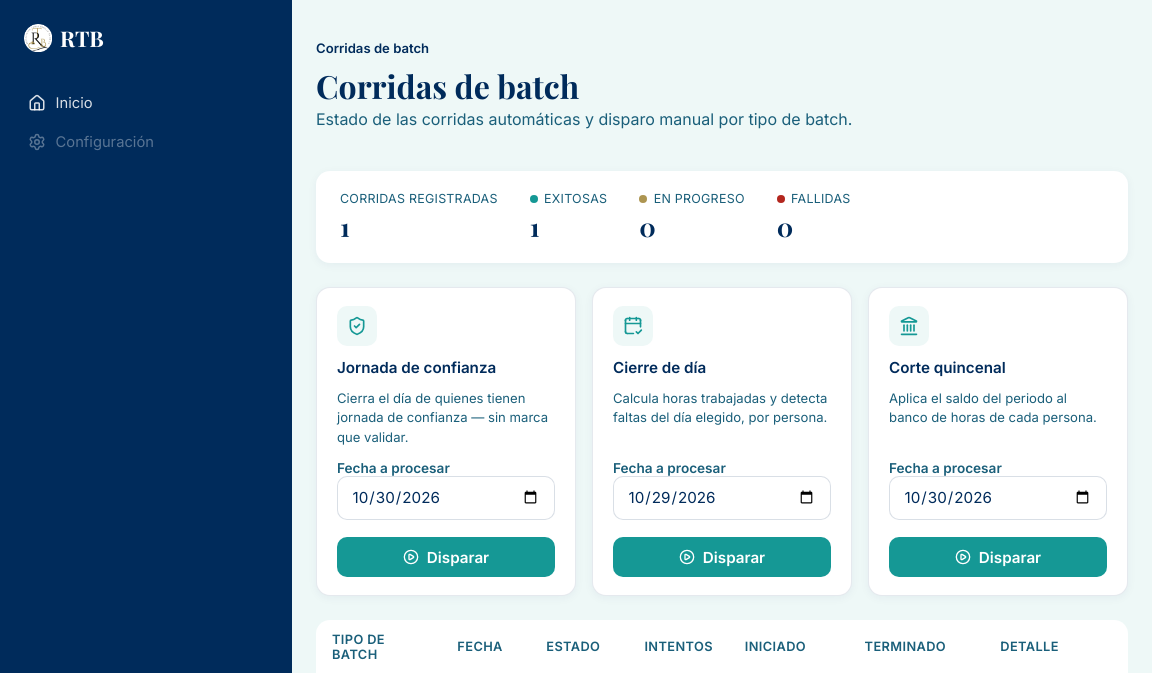
Test case: PanelCorridasBatchPage › muestra un error legible cuando el backend rechaza el disparo manual
Step 1. Click the button with aria-label "disparar jornada de confianza" → click(446, 557), box x1=337 y1=537 x2=555 y2=577
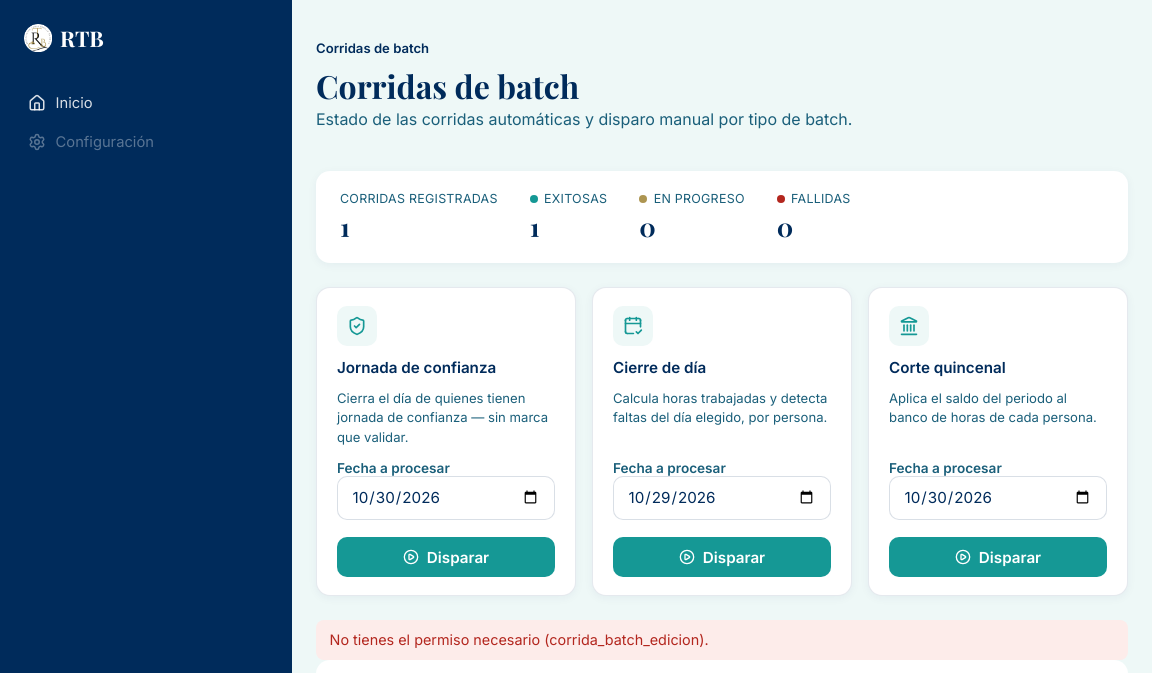
Check: the text "No tienes el permiso necesario (corrida_batch_edicion)." is shown, box x1=316 y1=620 x2=1128 y2=660
